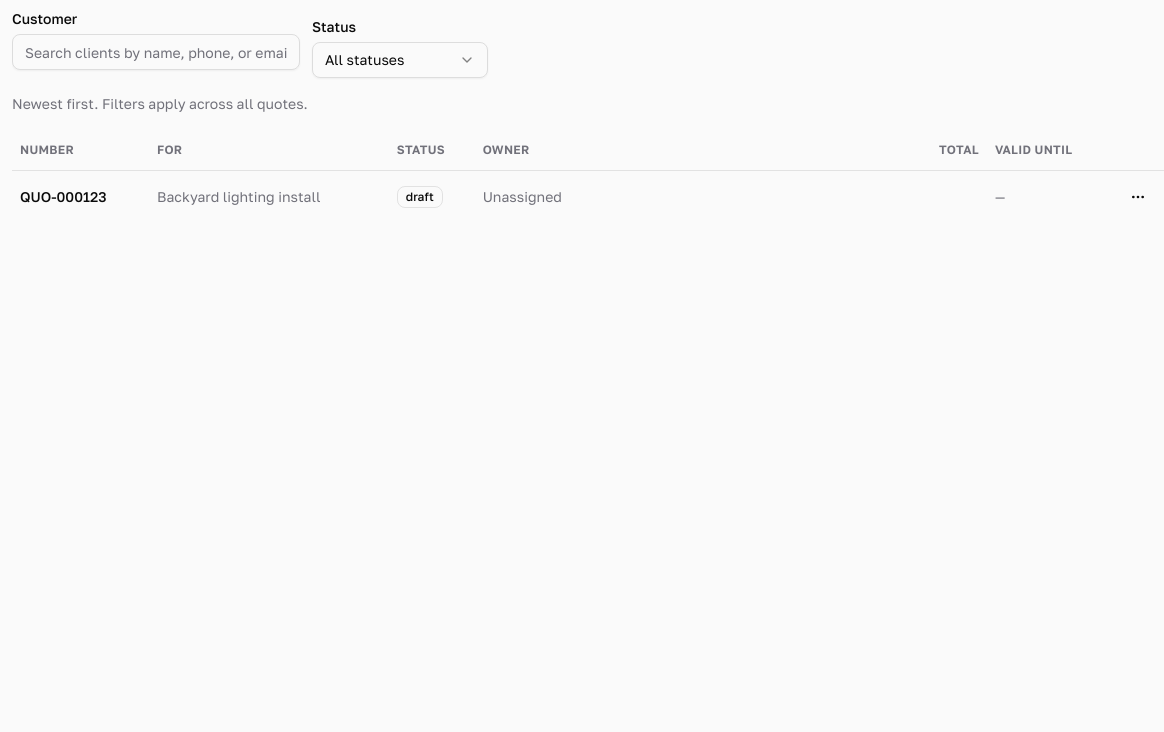
Scenario: QuotesList proposal delivery › offers delivery straight from a draft, with no send-first two-step
The image size is (1164, 732).
Expected: the button "QUO-000123" is shown, [20, 186, 106, 206]
What coordinates should you click on to do the following:
click the button named "Actions"
I would click on:
 (1138, 196)
Its box is [1120, 178, 1156, 214].
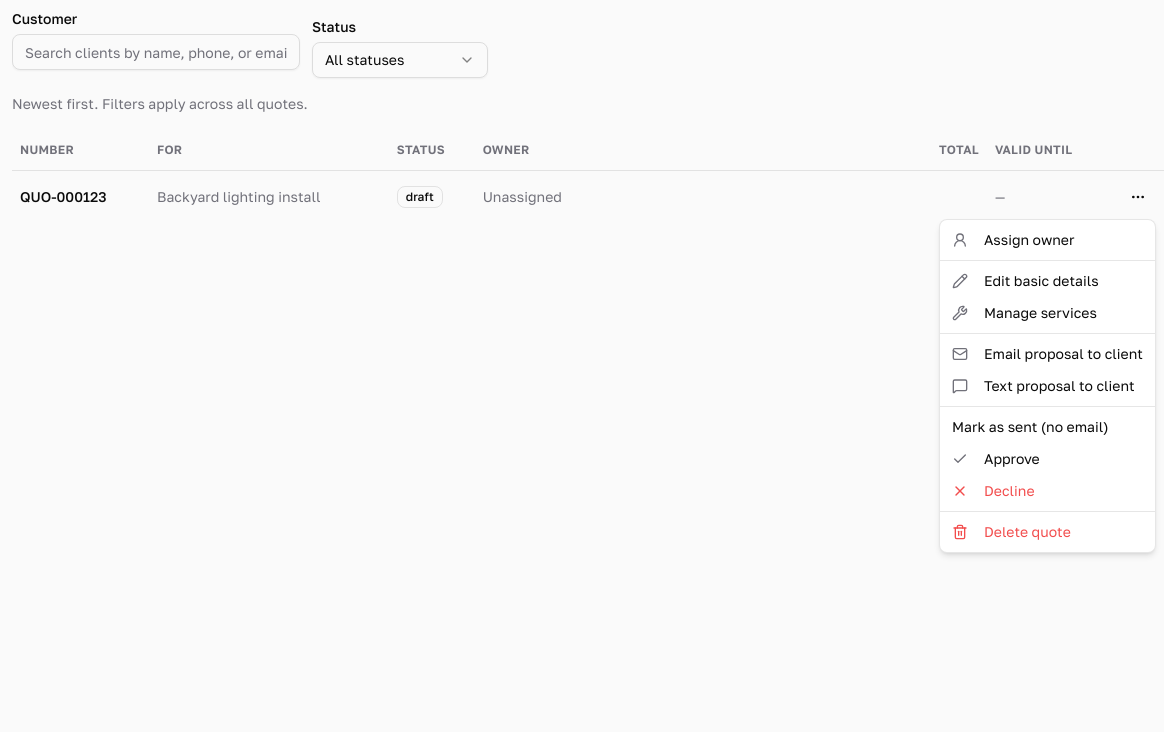
Expected: the menu item "Email proposal to client" is shown, [952, 345, 1143, 362]
Expected: the menu item "Text proposal to client" is shown, [952, 377, 1134, 394]
